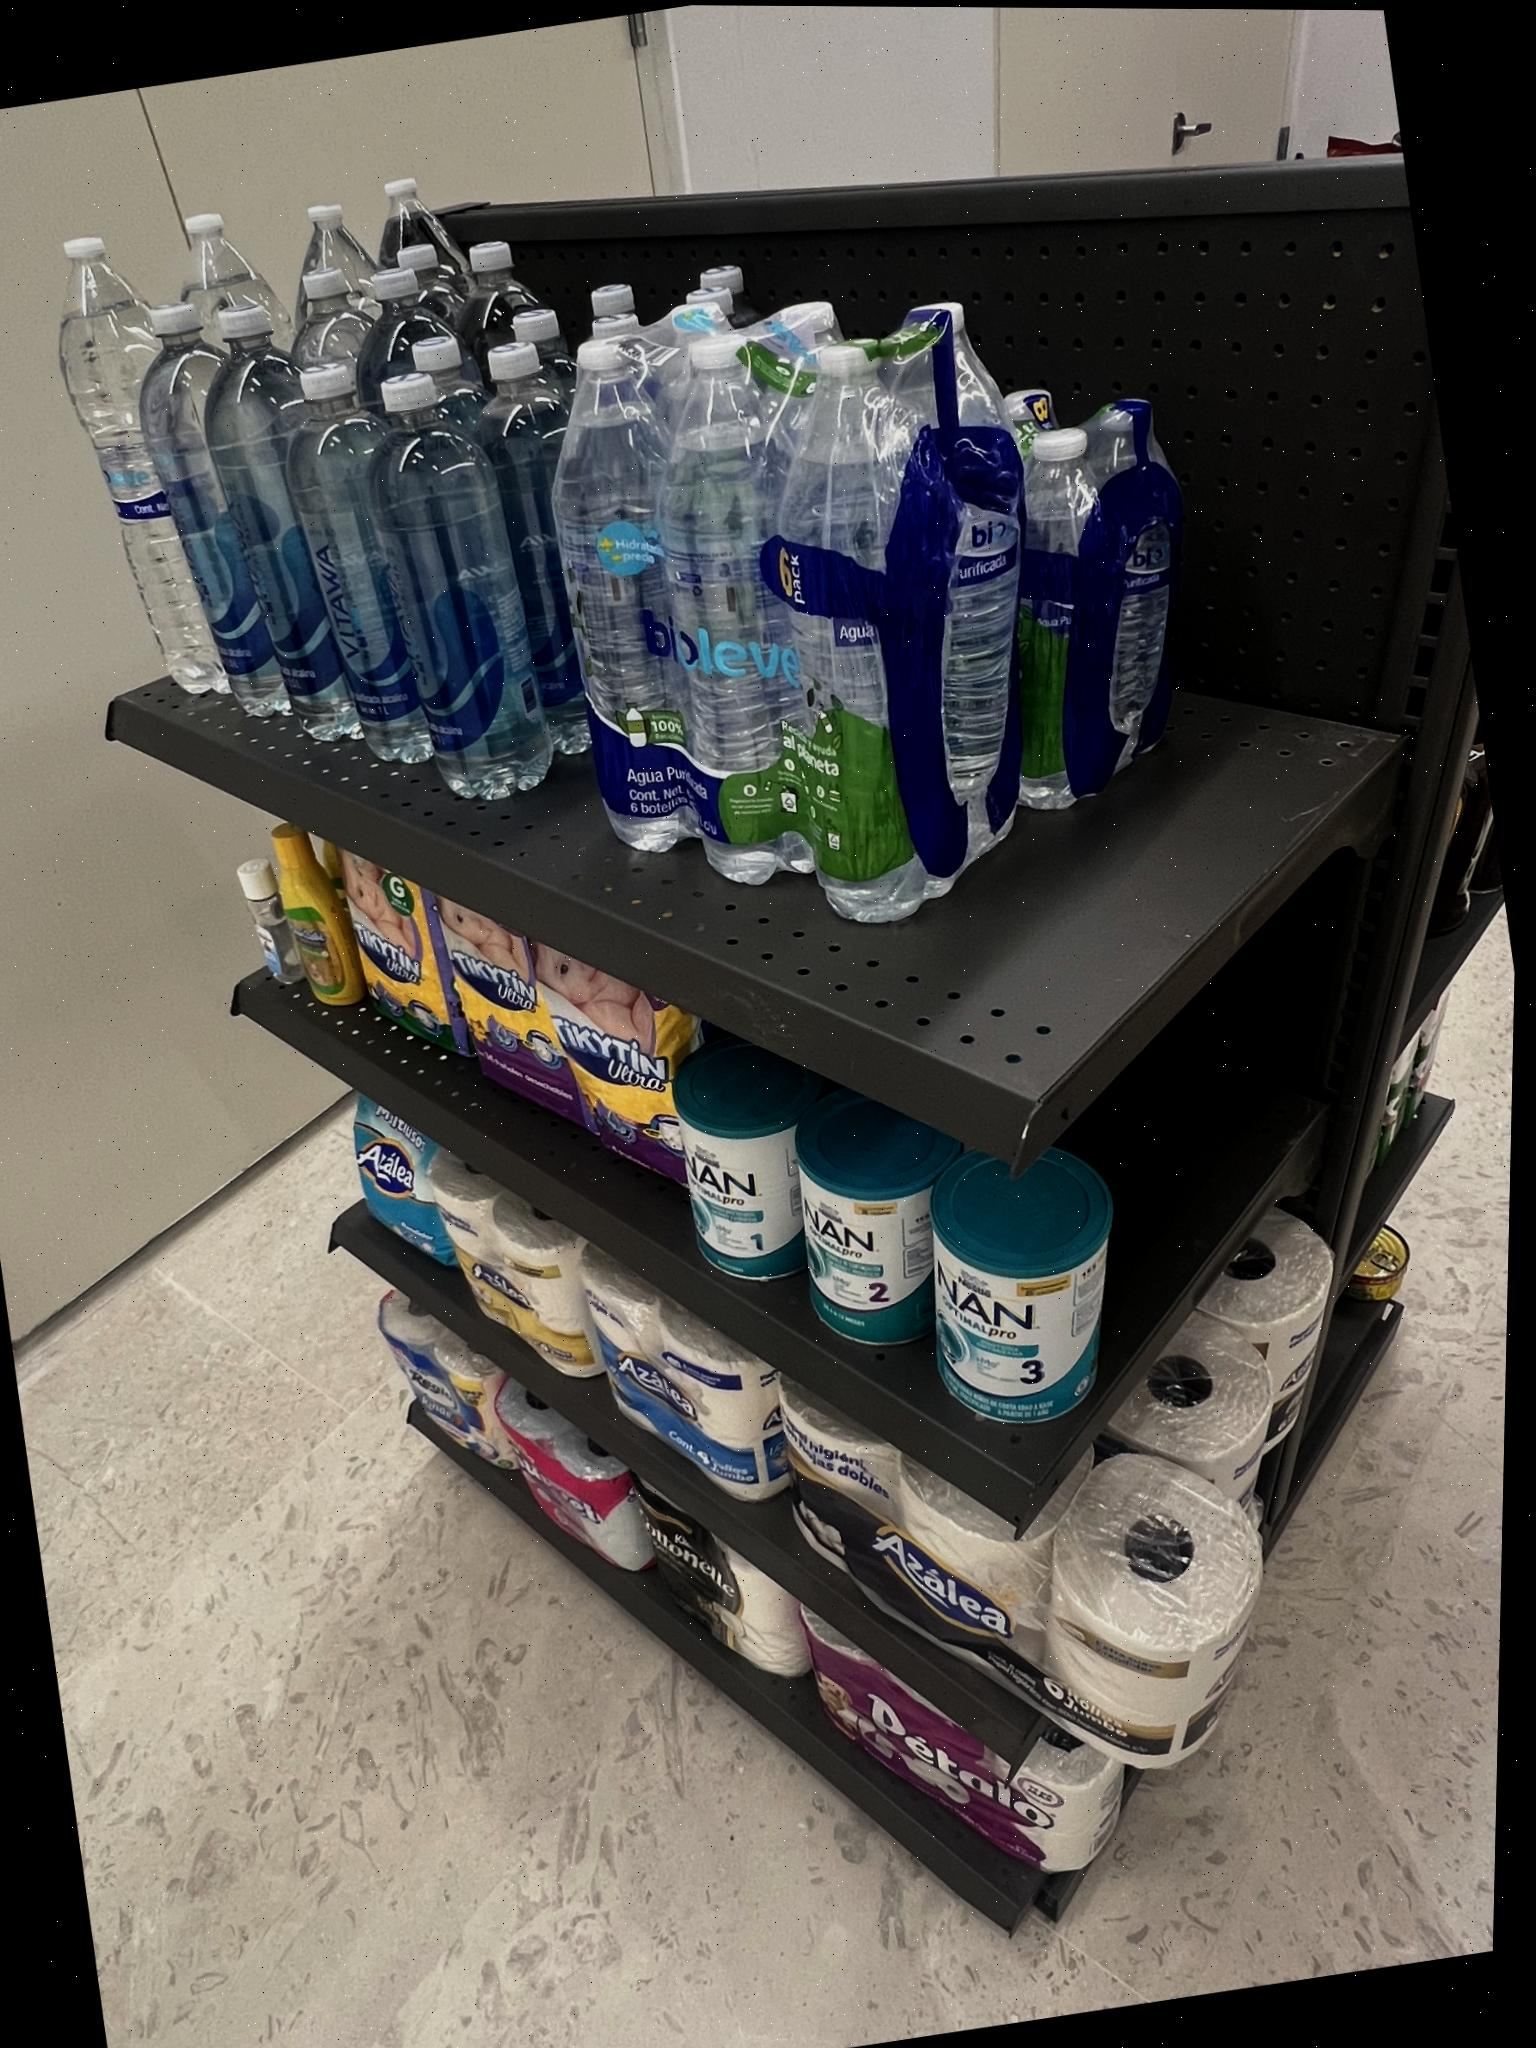aceite_bebe_mennen: (227, 851, 298, 992)
agua_bioleve: (27, 224, 215, 714)
agua_bioleve_6pack: (536, 340, 928, 943)
agua_vitawa_1L: (344, 361, 558, 816), (258, 358, 418, 779)
agua_vitawa_1_5L: (179, 302, 340, 756), (113, 298, 276, 734)
detergente_azaela: (345, 1085, 450, 1272)
nan_nestle_1: (673, 1101, 808, 1293)
nan_nestle_2: (783, 1130, 939, 1355)
nan_nestle_3: (916, 1201, 1105, 1434)
panales_tikytin_extragrande: (518, 908, 695, 1205), (429, 884, 560, 1150)
panales_tikytin_grande: (336, 832, 458, 1072)
papelhigenico_azaela_6rollos: (781, 1390, 1191, 1782)
papelhigenico_azaela_amarillo: (428, 1176, 594, 1388)
papelhigenico_azaela_azul: (578, 1264, 766, 1508)
papelhigenico_kleenex_cottonelle: (637, 1480, 783, 1680)
papelhigenico_petalo: (803, 1609, 1071, 1892)
papelhigenico_regio: (381, 1319, 508, 1469)
papelhigenico_suavel: (500, 1409, 632, 1574)
shampoo_bebe: (263, 814, 368, 1016)
